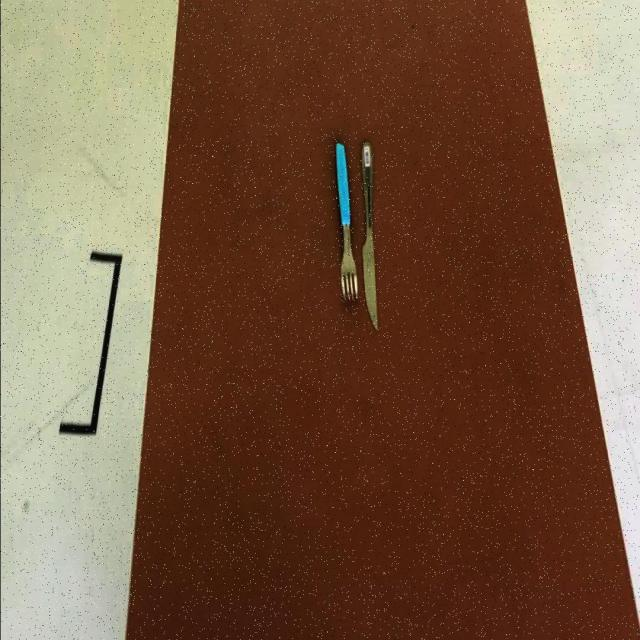Fork: (334, 143, 359, 304)
Knife: (360, 142, 378, 334)
